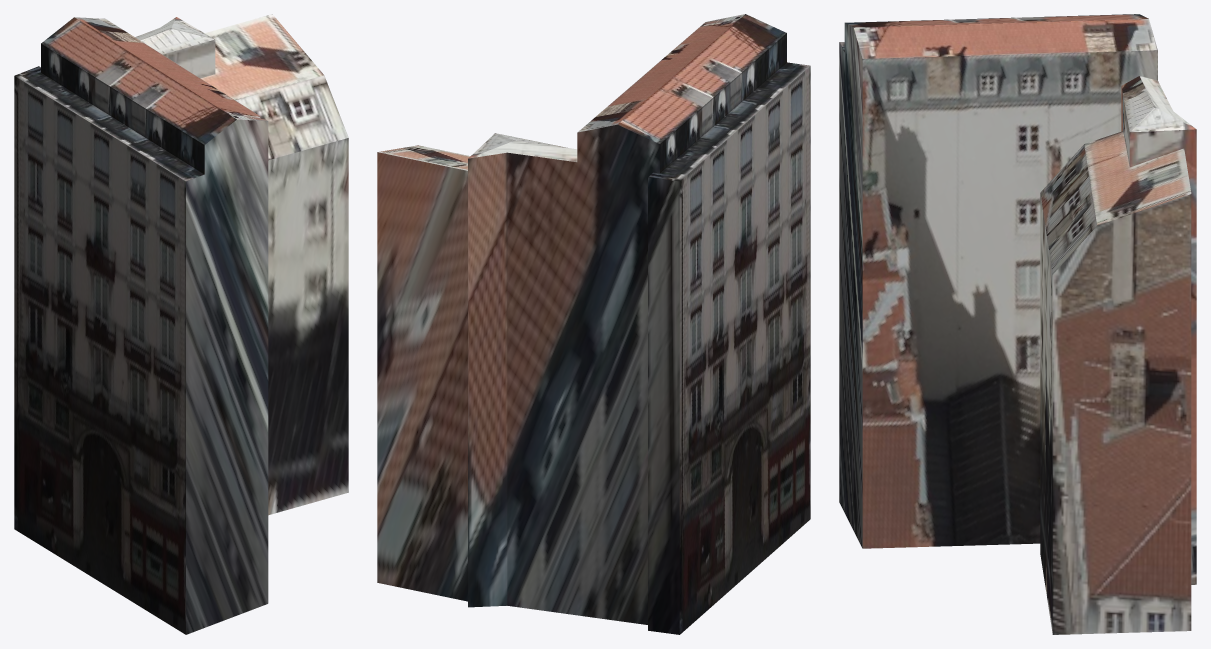
3 renders of one model, left to right at view 1: azimuth 30°, elevation 25°; view 2: azimuth 150°, elevation 25°; view 3: azimuth 270°, elevation 25°, orthographic.
Parts seen in each view (by area): view 1: Z_UP; view 2: Z_UP; view 3: Z_UP.
Boxes of the visible parts, x1,y1,x2,y2 form: Z_UP: (14, 14, 348, 634); Z_UP: (377, 14, 810, 634); Z_UP: (839, 14, 1196, 634).
Bounding box in the file's own units: 16.04 × 26.37 × 16.95.
2 materials, 1 textured.
